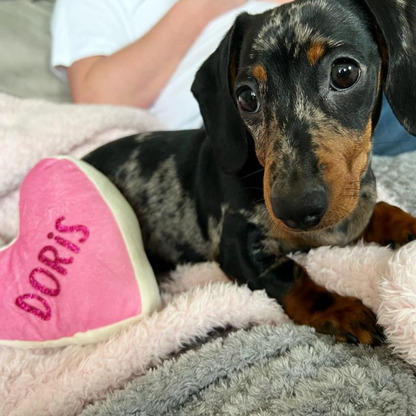dachshund: (78, 13, 406, 333)
